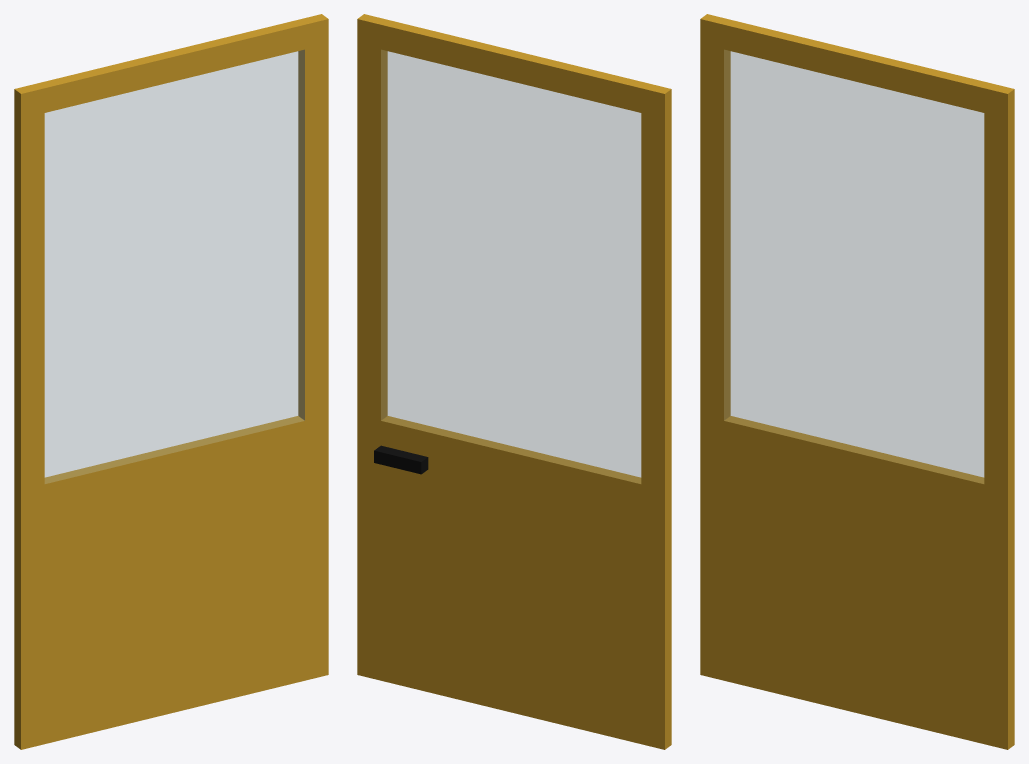
The model's file is excavator_cab_door.glb.
3 renders of one model, left to right at view 1: azimuth 30°, elevation 25°; view 2: azimuth 150°, elevation 25°; view 3: azimuth 330°, elevation 25°, orthographic.
Parts seen in each view (by area): view 1: body:compound; view 2: body:compound; view 3: body:compound.
Boxes of the visible parts, x1,y1,x2,y2 form: body:compound: [14, 14, 328, 749]; body:compound: [357, 14, 671, 749]; body:compound: [700, 14, 1014, 749].
Size of the model in its own units: 0.8125 by 1.66 by 0.0625.
